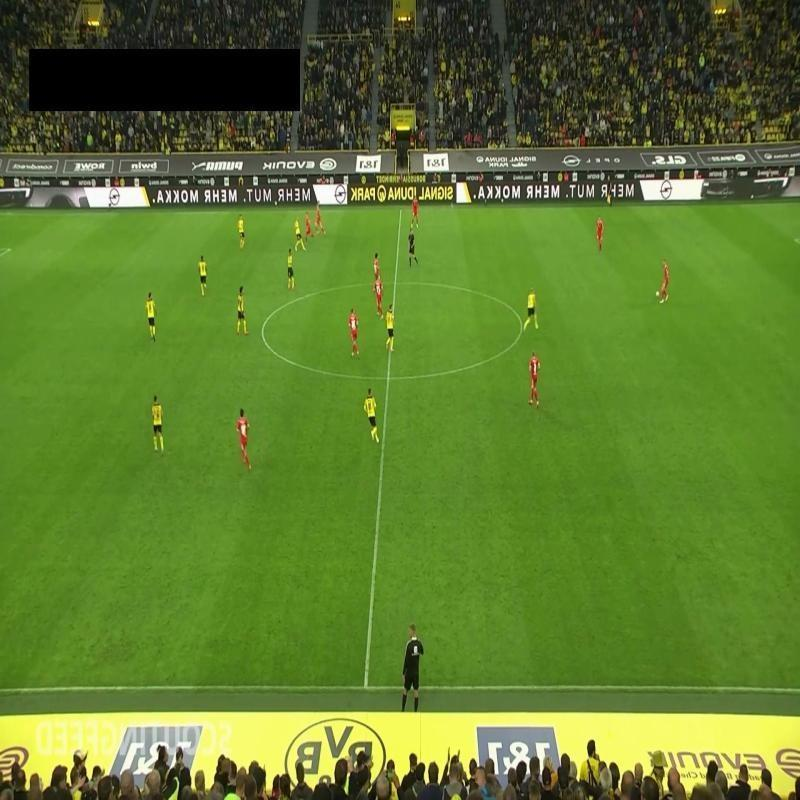13: (393, 202, 407, 215)
14: (388, 275, 401, 289)
15: (382, 371, 395, 385)
16: (356, 677, 376, 696)
9: (0, 241, 21, 257), (788, 234, 800, 247)
c: (513, 322, 527, 336), (256, 318, 268, 334)
